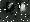person: (21, 3, 27, 13), (7, 3, 12, 13)
